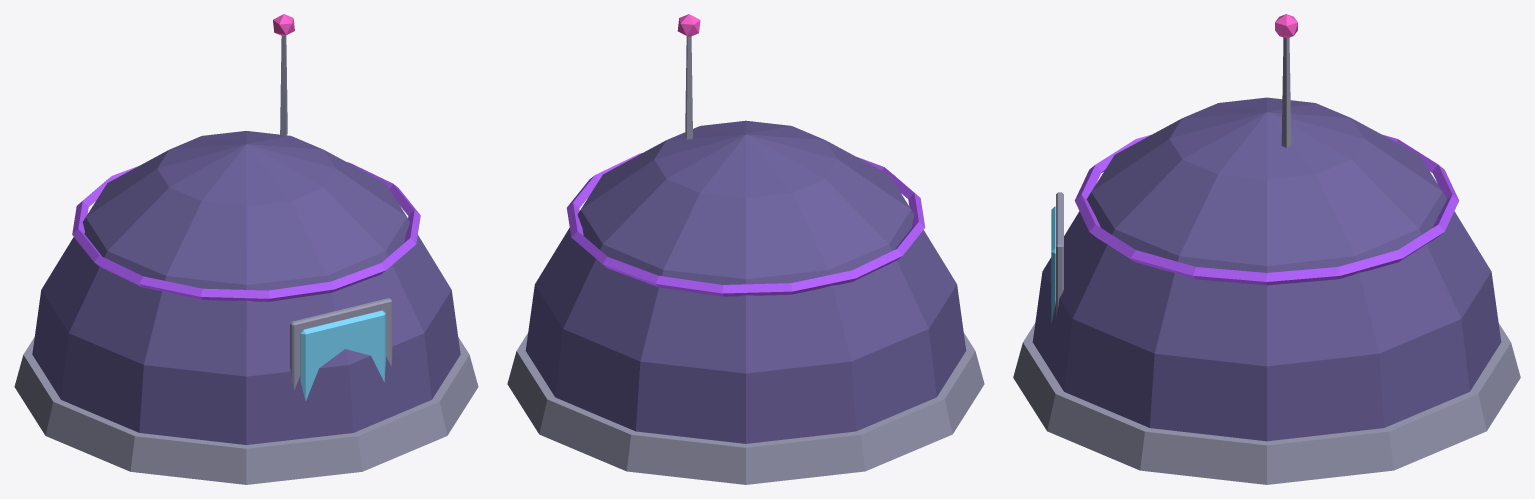
Rendered from Alien_Dome_Hut.obj.
The picture shows the model from 3 angles, left to right: view 1: azimuth 30°, elevation 25°; view 2: azimuth 150°, elevation 25°; view 3: azimuth 270°, elevation 25°; orthographic projection. The views are drawn at different scales.
Visible parts, largest first — view 1: Alien_Dome_Hut; view 2: Alien_Dome_Hut; view 3: Alien_Dome_Hut.
Boxes of the visible parts, bbox=[...] form: Alien_Dome_Hut: bbox=[14, 14, 478, 484]; Alien_Dome_Hut: bbox=[507, 14, 984, 484]; Alien_Dome_Hut: bbox=[1013, 14, 1520, 484].
Size of the model in its own units: 5.2 by 4.39 by 5.2.
Materials: 1 (1 with a texture image).
